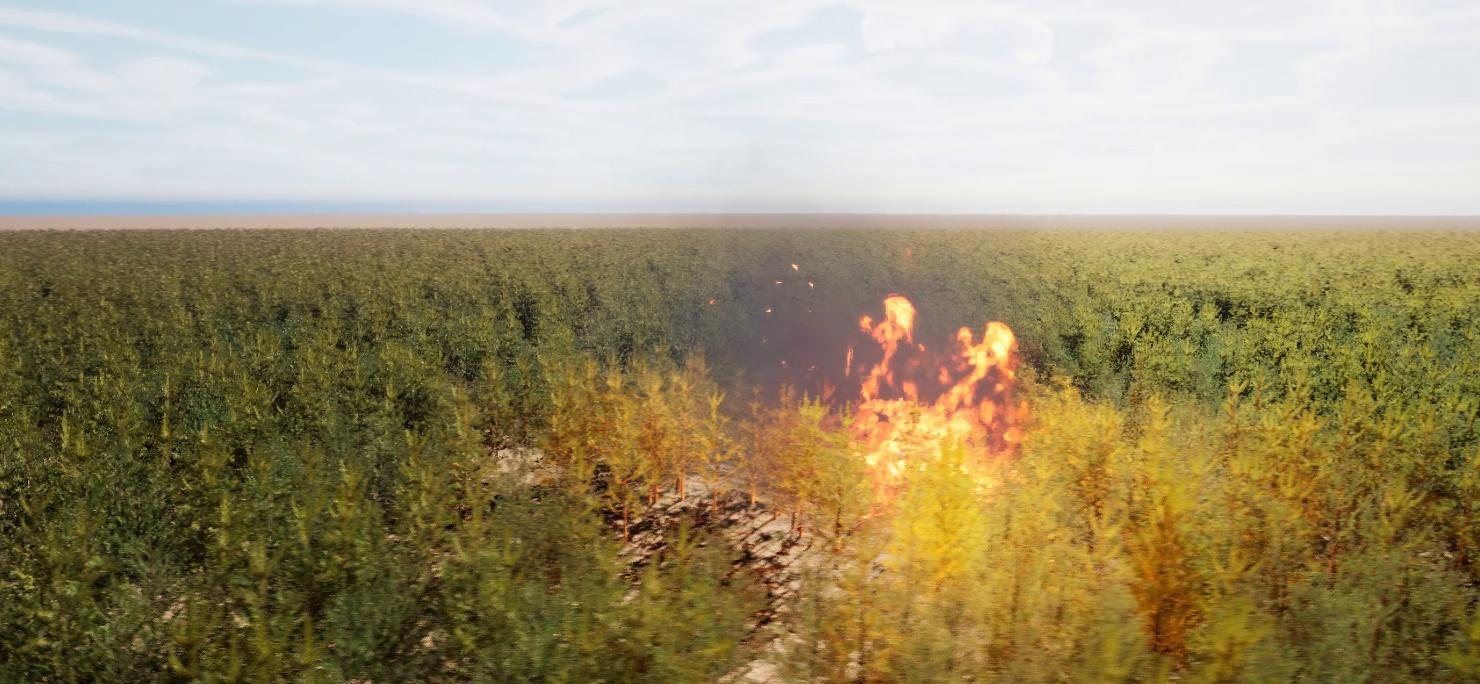fire: (828, 294, 1036, 504)
smoke: (704, 215, 1033, 471)
